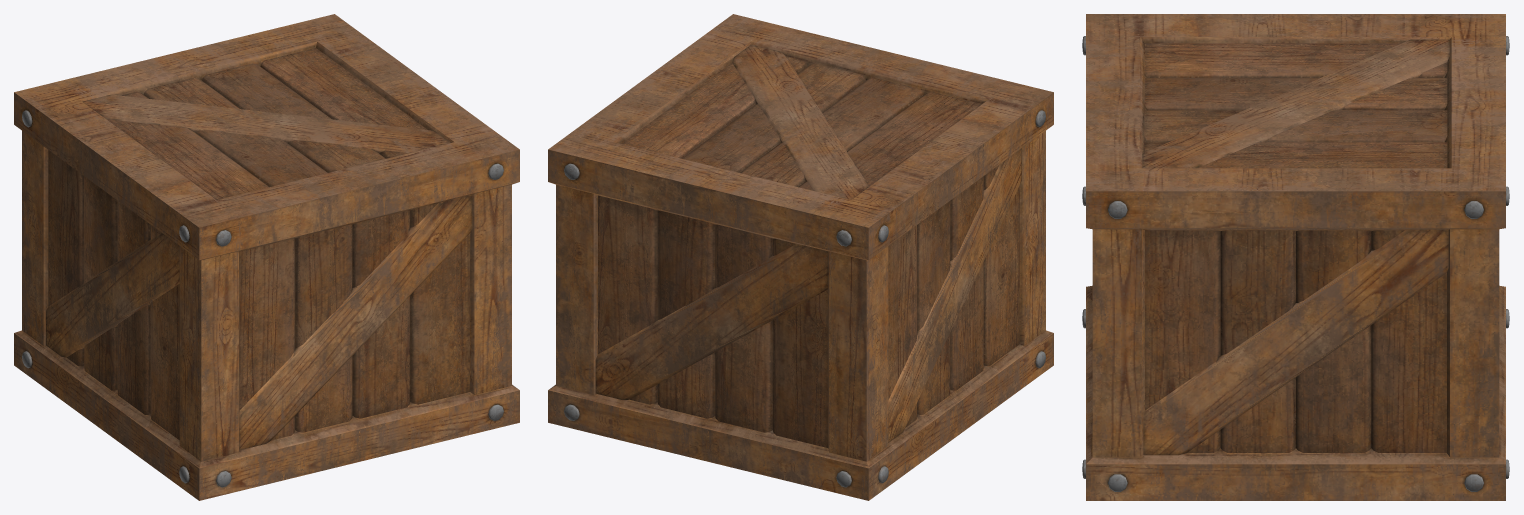
3 views of the same model, side by side, from view 1: azimuth 30°, elevation 25°; view 2: azimuth 150°, elevation 25°; view 3: azimuth 270°, elevation 25° (orthographic). The views are drawn at different scales.
Parts seen in each view (by area): view 1: Box_MPolyFull; view 2: Box_MPolyFull; view 3: Box_MPolyFull.
Part boxes in pixels (bbox=[...]): Box_MPolyFull: bbox=[14, 14, 519, 500]; Box_MPolyFull: bbox=[548, 14, 1053, 500]; Box_MPolyFull: bbox=[1082, 14, 1509, 500].
Size of the model in its own units: 231 by 185 by 231.
Materials: 1 (1 with a texture image).
